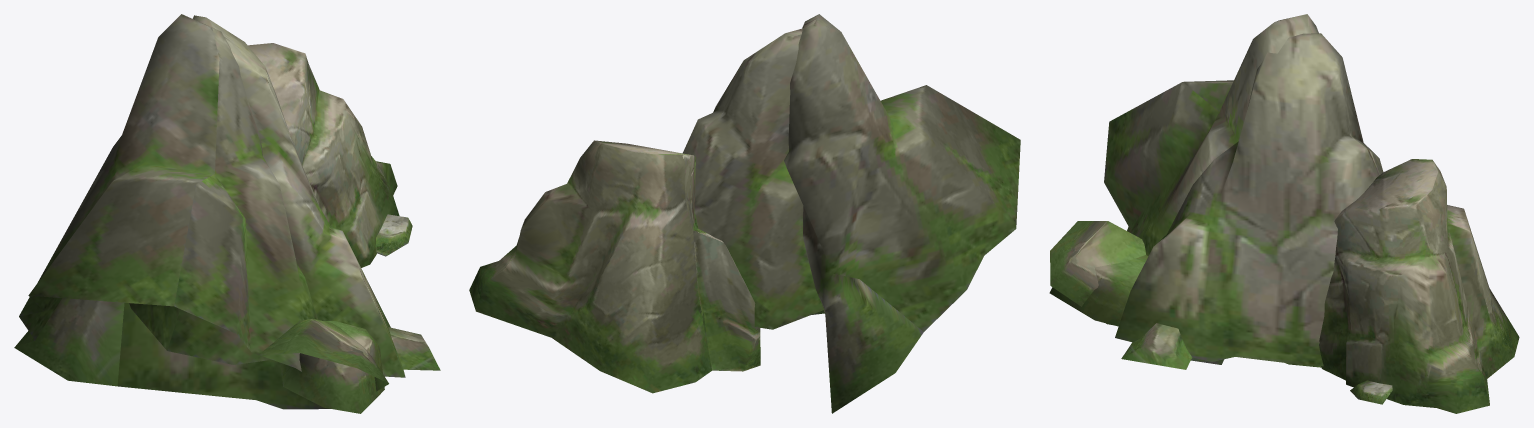
The model's file is shitou_12.FBX.
3 views of the same model, side by side, from view 1: azimuth 30°, elevation 25°; view 2: azimuth 150°, elevation 25°; view 3: azimuth 270°, elevation 25° (orthographic). The views are drawn at different scales.
Visible parts, largest first — view 1: shitou_12; view 2: shitou_12; view 3: shitou_12.
Boxes of the visible parts, x1,y1,x2,y2 form: shitou_12: (14,14,440,413); shitou_12: (469,14,1020,413); shitou_12: (1049,14,1519,413).
Bounding box in the file's own units: 258 × 193 × 243.
